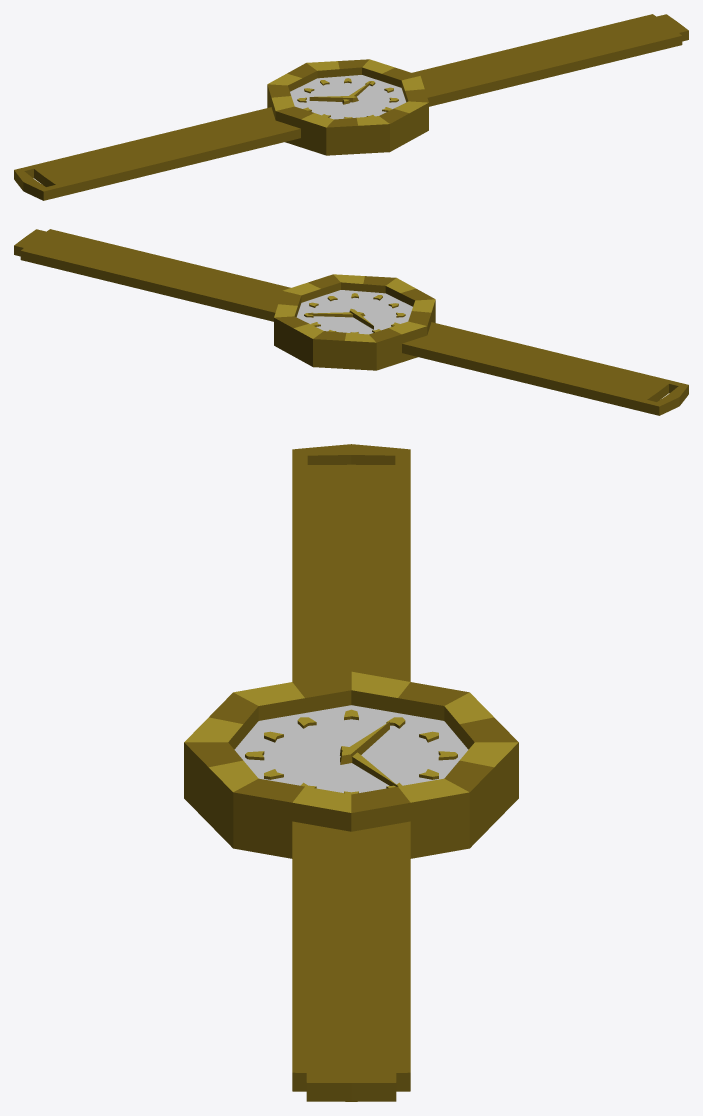
File: watch.obj
The picture shows the model from 3 angles, top to bottom: view 1: azimuth 30°, elevation 25°; view 2: azimuth 150°, elevation 25°; view 3: azimuth 270°, elevation 25°; orthographic projection. The views are drawn at different scales.
Visible parts, largest first — view 1: Circle; view 2: Circle; view 3: Circle.
Part boxes in pixels (x1,y1,x2,y2): Circle: (14,14,688,200); Circle: (14,229,688,415); Circle: (184,444,518,1101).
Size of the model in its own units: 0.8681 by 0.0356 by 0.1922.
